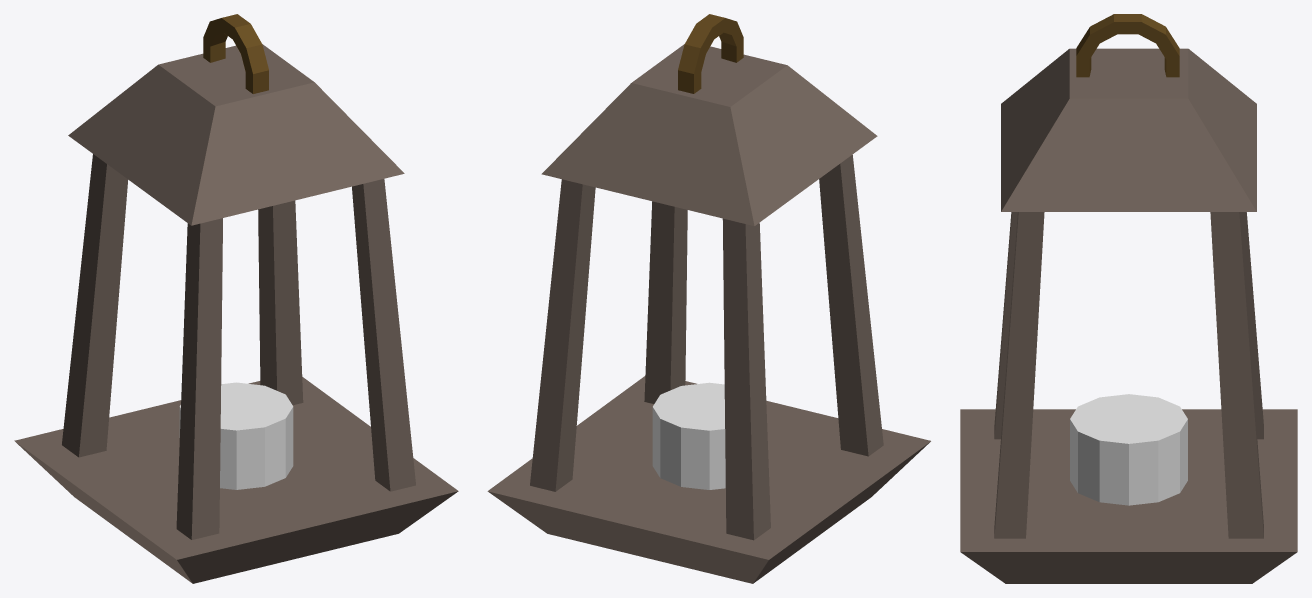
File: Lantern_NoTransparent.fbx
3 renders of one model, left to right at view 1: azimuth 30°, elevation 25°; view 2: azimuth 150°, elevation 25°; view 3: azimuth 270°, elevation 25°, orthographic. The views are drawn at different scales.
Visible parts, largest first — view 1: Cube; view 2: Cube; view 3: Cube.
Boxes of the visible parts, x1,y1,x2,y2 form: Cube: (14,14,458,583); Cube: (487,14,930,583); Cube: (960,14,1297,583).
Size of the model in its own units: 92.08 by 155 by 92.08.
